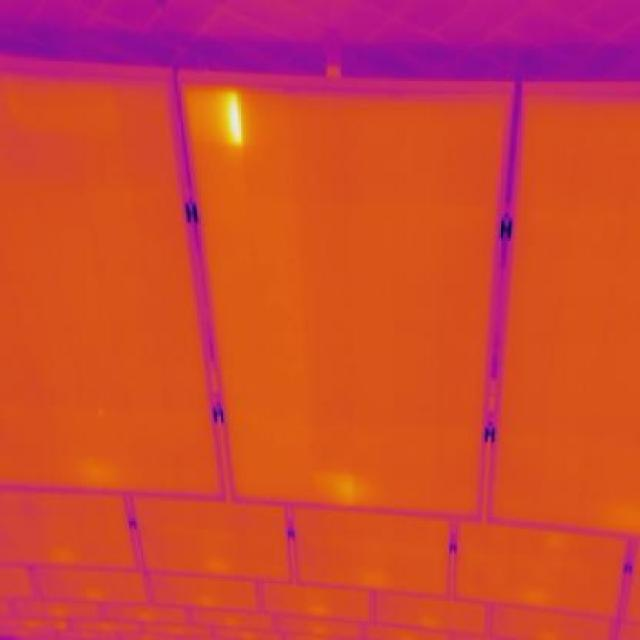hotspot: (182, 86, 245, 152)
